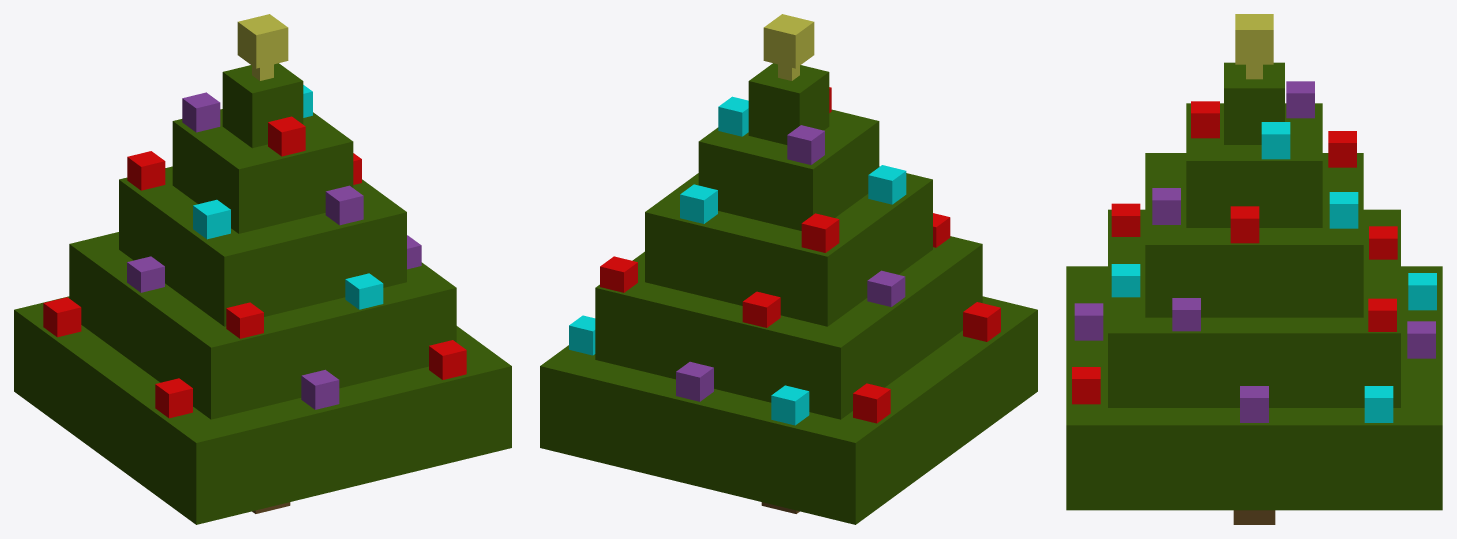
Rendered from 045 Xmas_Tree.fbx.
The picture shows the model from 3 angles, left to right: view 1: azimuth 30°, elevation 25°; view 2: azimuth 150°, elevation 25°; view 3: azimuth 270°, elevation 25°; orthographic projection. The views are drawn at different scales.
Parts seen in each view (by area): view 1: Lowpoly_Christmas_Pack_045:pCube25; view 2: Lowpoly_Christmas_Pack_045:pCube25; view 3: Lowpoly_Christmas_Pack_045:pCube25.
Part boxes in pixels (bbox=[...]): Lowpoly_Christmas_Pack_045:pCube25: bbox=[14, 14, 511, 524]; Lowpoly_Christmas_Pack_045:pCube25: bbox=[540, 14, 1037, 524]; Lowpoly_Christmas_Pack_045:pCube25: bbox=[1066, 14, 1442, 524].
Bounding box in the file's own units: 2 × 2.9 × 2.
